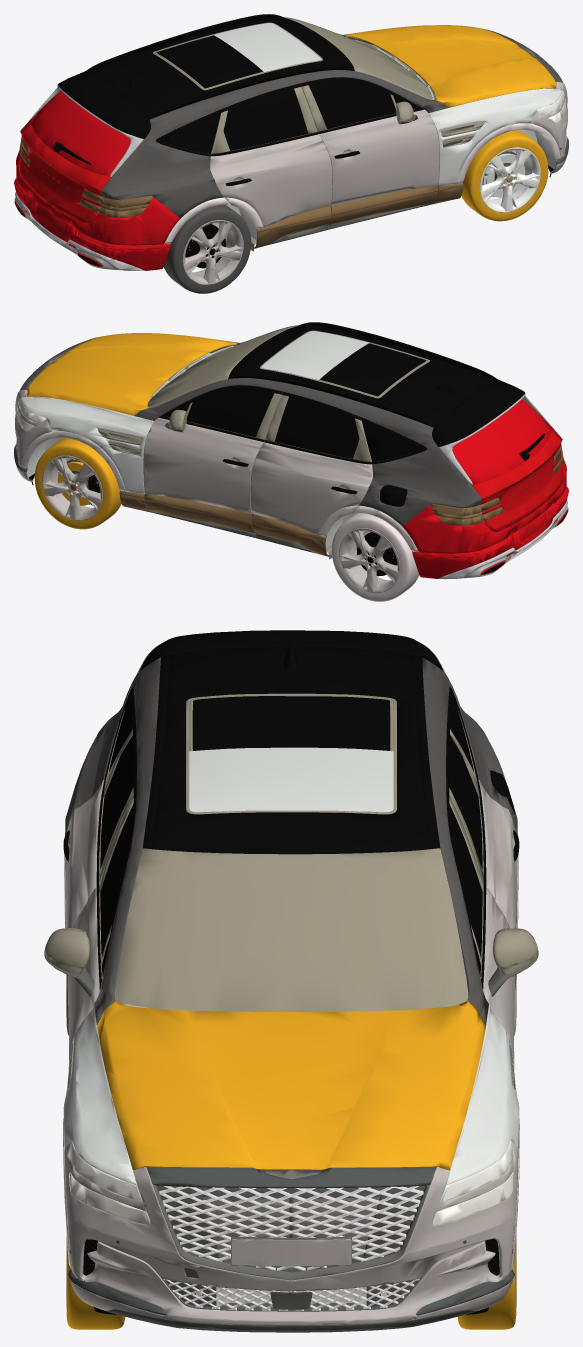
Rendered from genesis_gv80.glb.
3 views of the same model, one above another, from view 1: azimuth 30°, elevation 25°; view 2: azimuth 150°, elevation 25°; view 3: azimuth 270°, elevation 25° (orthographic). The views are drawn at different scales.
Visible parts, largest first — view 1: body, wheel_FR, wheel_RR; view 2: body, wheel_FL, wheel_RL; view 3: body, wheel_FR, wheel_FL.
Part boxes in pixels (x1,y1,x2,y2): body: (14, 14, 568, 270); wheel_FR: (461, 130, 548, 221); wheel_RR: (164, 205, 251, 293); body: (14, 322, 568, 579); wheel_FL: (34, 438, 121, 529); wheel_RL: (331, 513, 419, 601); body: (44, 630, 538, 1332); wheel_FR: (66, 1232, 125, 1329); wheel_FL: (457, 1232, 516, 1329).
Bounding box in the file's own units: 4.95 × 1.73 × 2.13.
Materials: 1 (1 with a texture image).
